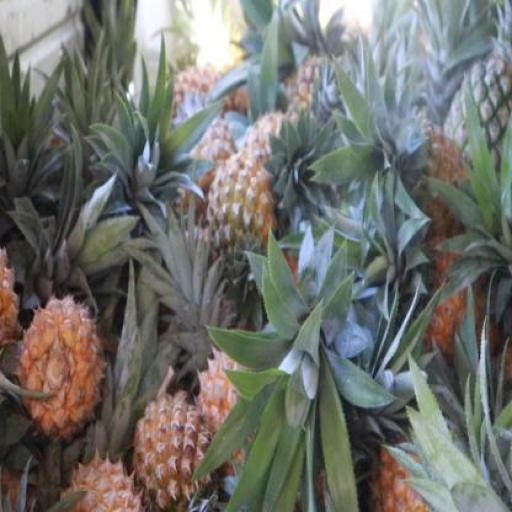Pineapple - v8 v1: (21, 300, 100, 434), (130, 399, 208, 512)
